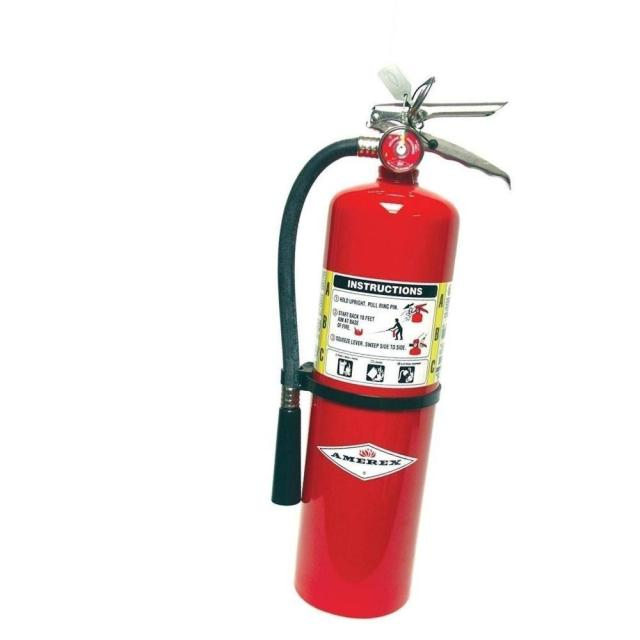fire_extinguisher: (264, 58, 514, 622)
